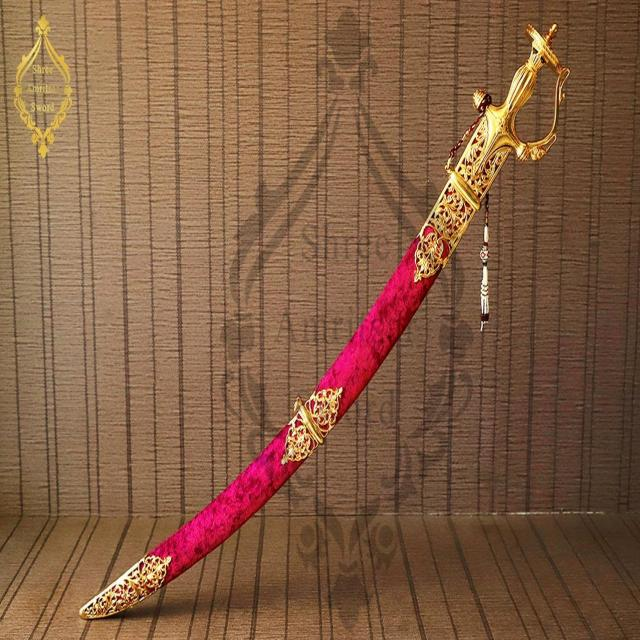weapon: (74, 16, 576, 627)
